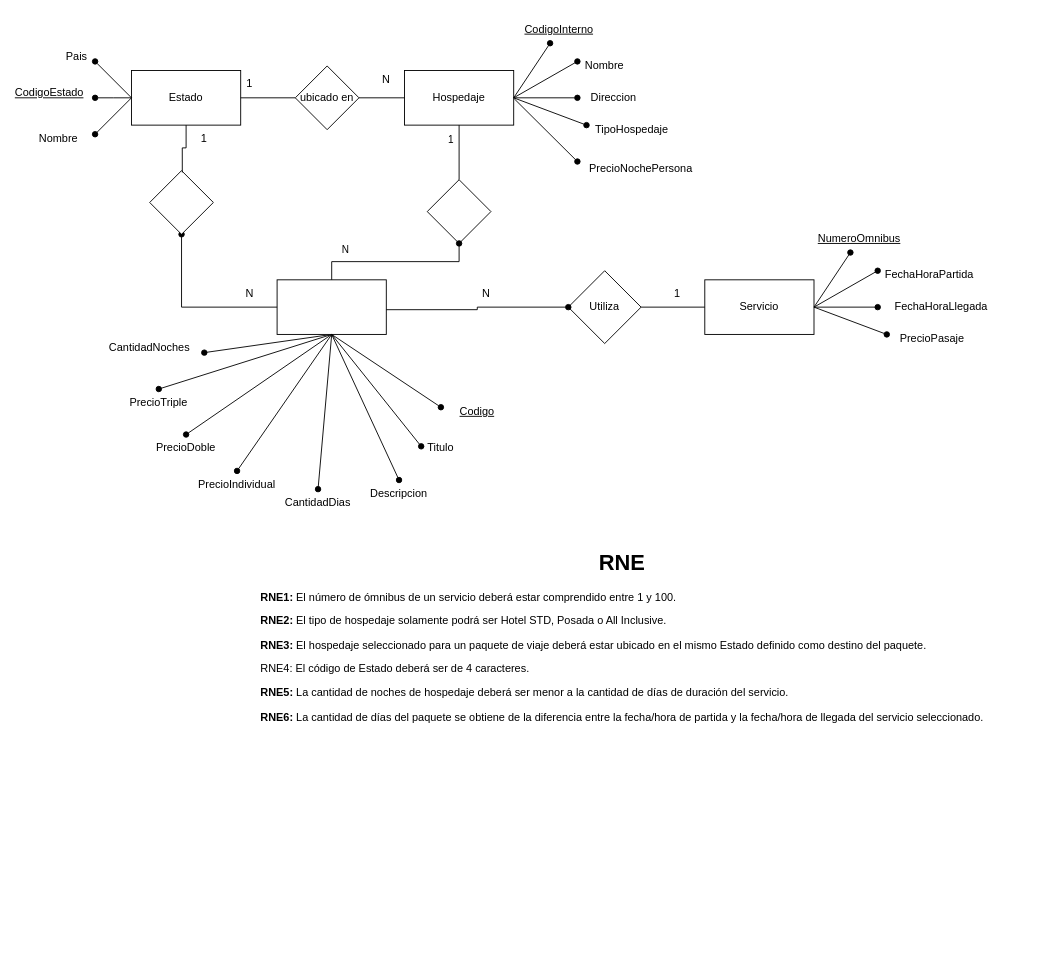
Some shapes in this 1039 by 962 pixel diagram are drawn without their labels. Each missing label, with the centre of its shape:
Destino: pixel 181 202
Incluye: pixel 458 211
PaqueteViaje: pixel 331 306
